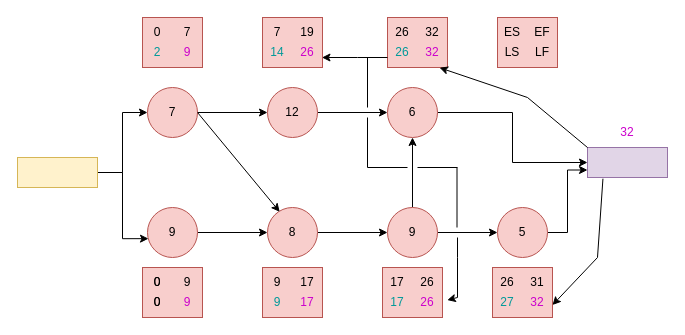
The diagram is 685 pixels wide and 335 high, and some of its shapes have lost their labels. The box of each missing label's shape, as (x1, y1, x2, y2) in pixels:
Finish: (586, 146, 668, 178)
Start: (16, 156, 98, 188)
